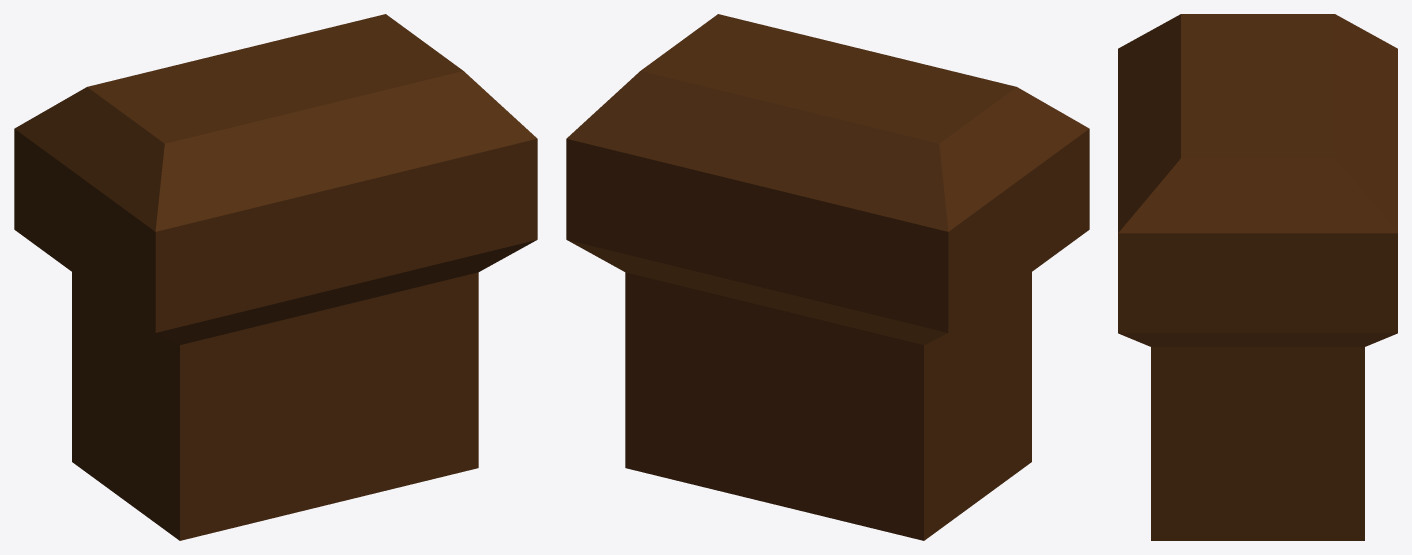
The model's file is Bread.fbx.
3 renders of one model, left to right at view 1: azimuth 30°, elevation 25°; view 2: azimuth 150°, elevation 25°; view 3: azimuth 270°, elevation 25°, orthographic.
Parts seen in each view (by area): view 1: Cylinder.008; view 2: Cylinder.008; view 3: Cylinder.008.
Part boxes in pixels (box(x1,y1,x2,y2)): Cylinder.008: box(14, 14, 537, 540); Cylinder.008: box(566, 14, 1089, 540); Cylinder.008: box(1118, 14, 1397, 540).
Bounding box in the file's own units: 48.63 × 46.96 × 31.11.
